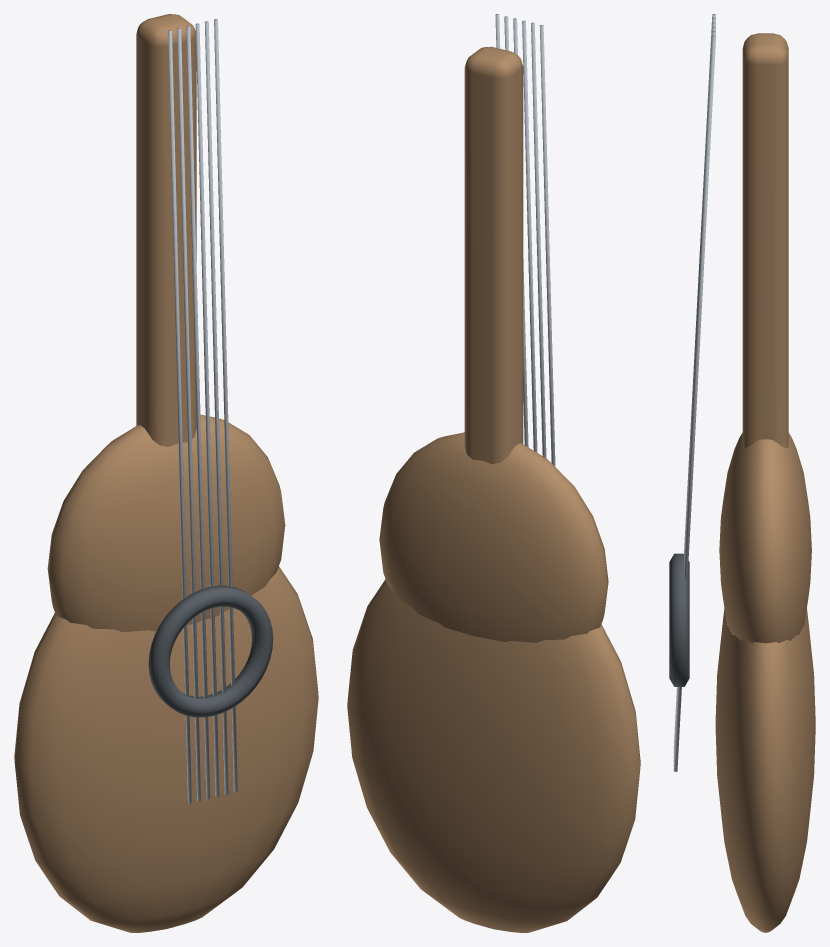
Rendered from atelier-violin.glb.
The picture shows the model from 3 angles, left to right: view 1: azimuth 30°, elevation 25°; view 2: azimuth 150°, elevation 25°; view 3: azimuth 270°, elevation 25°; orthographic projection. The views are drawn at different scales.
Visible parts, largest first — view 1: legs.227, steel.063, metal.194; view 2: legs.227, steel.063; view 3: legs.227, steel.063, metal.194.
Boxes of the visible parts, bbox=[...] form: legs.227: bbox=[14, 14, 318, 932]; steel.063: bbox=[168, 19, 237, 803]; metal.194: bbox=[148, 585, 273, 717]; legs.227: bbox=[347, 46, 640, 932]; steel.063: bbox=[495, 14, 555, 466]; legs.227: bbox=[715, 33, 815, 932]; steel.063: bbox=[673, 14, 715, 771]; metal.194: bbox=[669, 553, 689, 686].
Bounding box in the file's own units: 0.264 × 0.7681 × 0.114.
